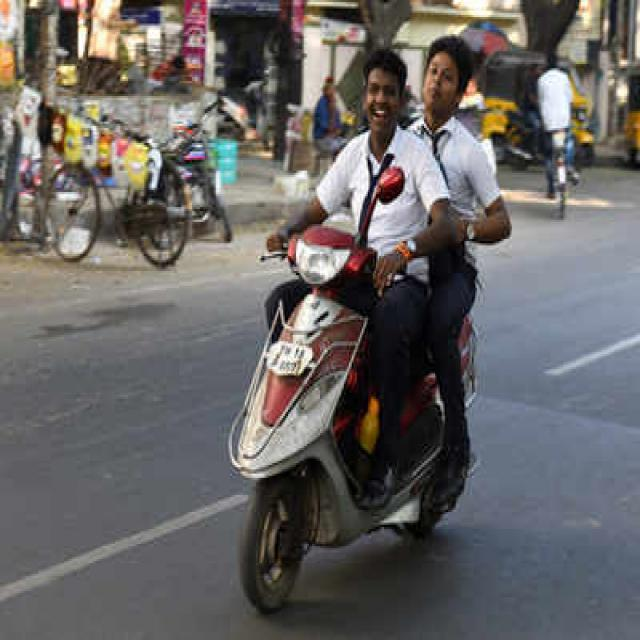No helmet: (361, 52, 411, 155)
